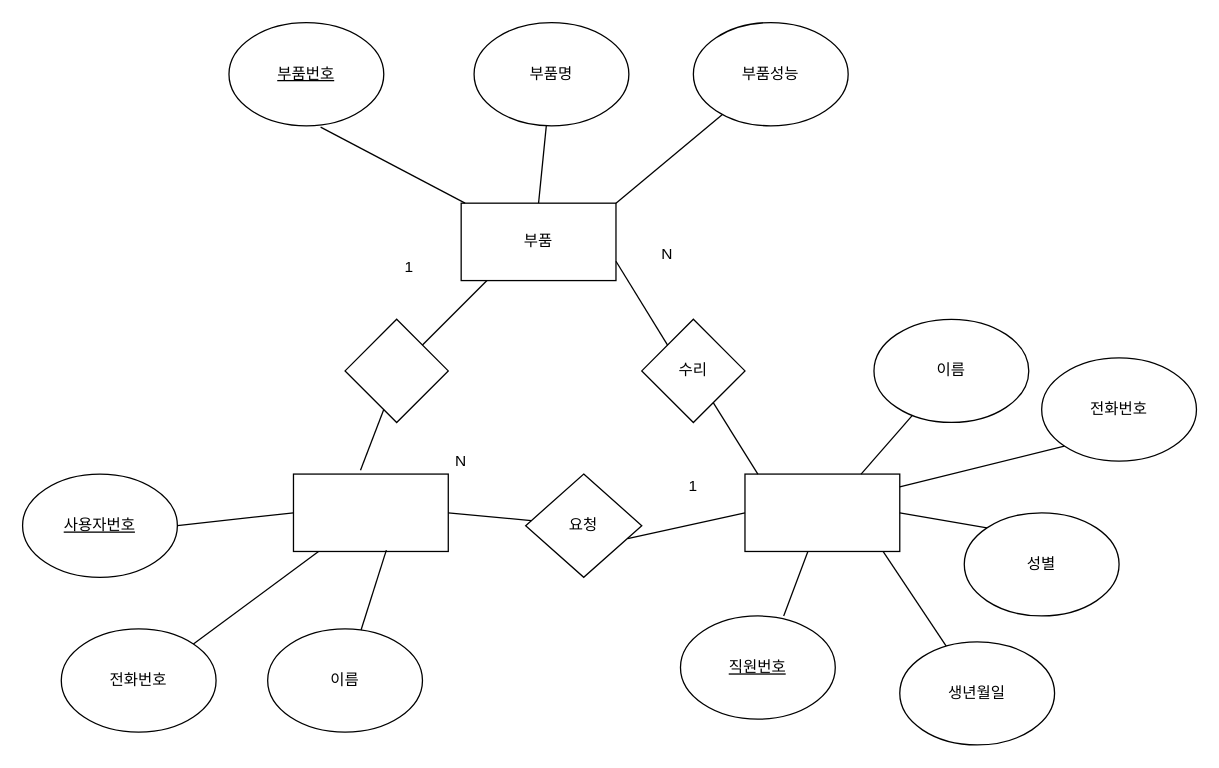
This 1219x768 diagram has some shape labels left out. Here are the shapes that lost their labels. From the top down, the centre of each, then its label:
the point at 396,370: 사용
the point at 370,512: 사용자
the point at 822,512: 직원
